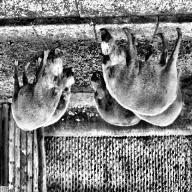boar: (95, 19, 187, 123), (11, 42, 65, 131), (84, 69, 114, 135), (53, 71, 84, 121)
